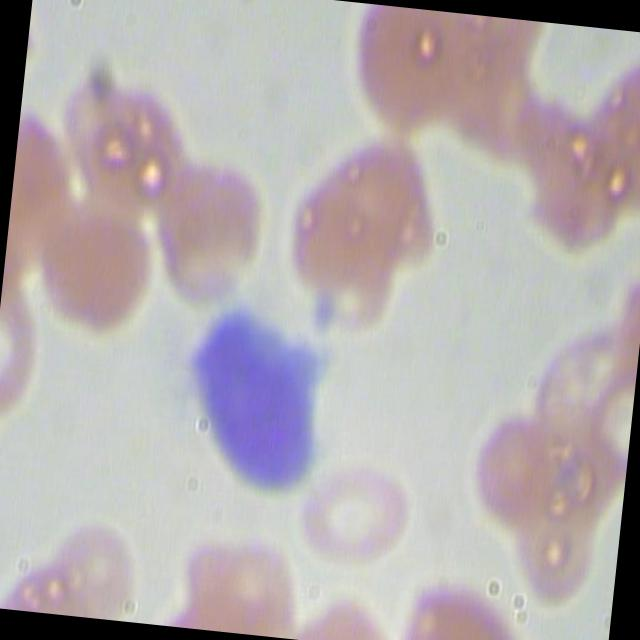Platelets: (306, 287, 341, 338)
RBC: (34, 182, 166, 348), (284, 145, 410, 309), (148, 148, 272, 312), (341, 2, 470, 149), (521, 99, 639, 255), (182, 524, 310, 638), (469, 397, 566, 535), (296, 458, 414, 564), (573, 52, 640, 227), (43, 510, 144, 620)
WBC: (172, 300, 336, 498)
